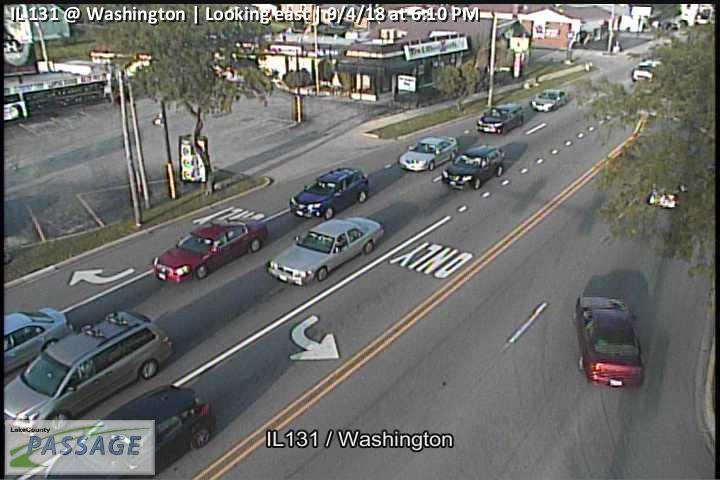SUV: (1, 308, 175, 437), (38, 384, 214, 480), (289, 167, 369, 219)
Sedan: (266, 215, 385, 287), (150, 218, 268, 284), (575, 294, 645, 389), (1, 307, 78, 377), (442, 146, 506, 190), (396, 134, 458, 170), (475, 103, 523, 134), (530, 87, 568, 112)
